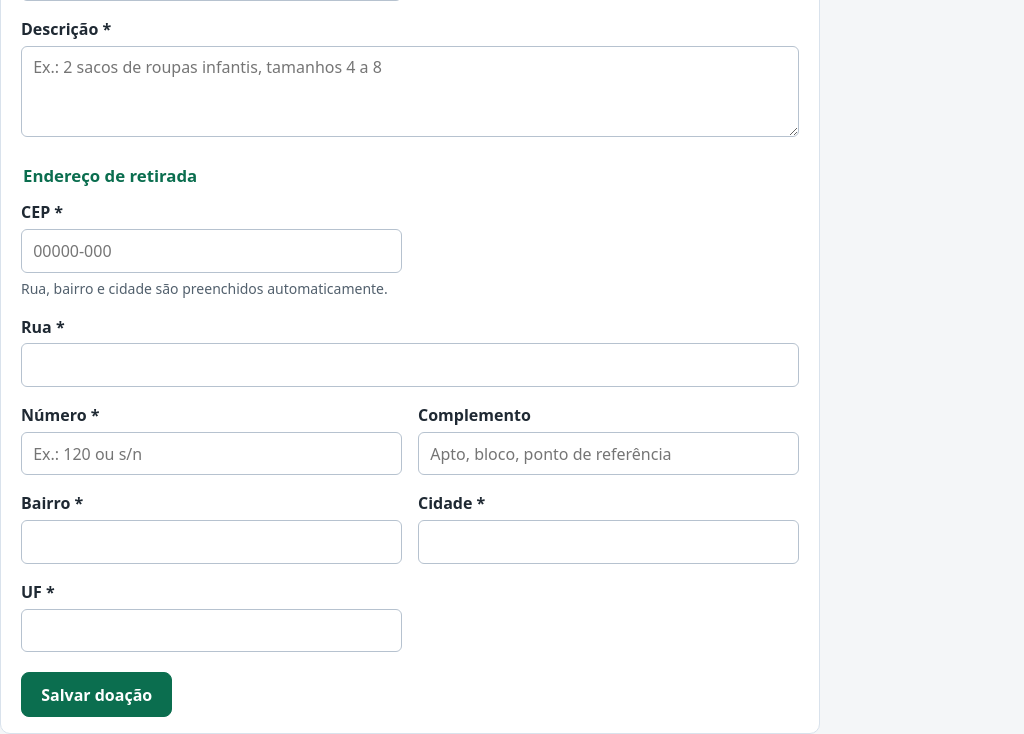
Test: enviar vazio mostra erros e não salva
This screenshot has width=1024, height=734.
(page scrolled)
Click the button "Salvar doação" at (97, 695), box [21,672,172,717]
(page scrolled)
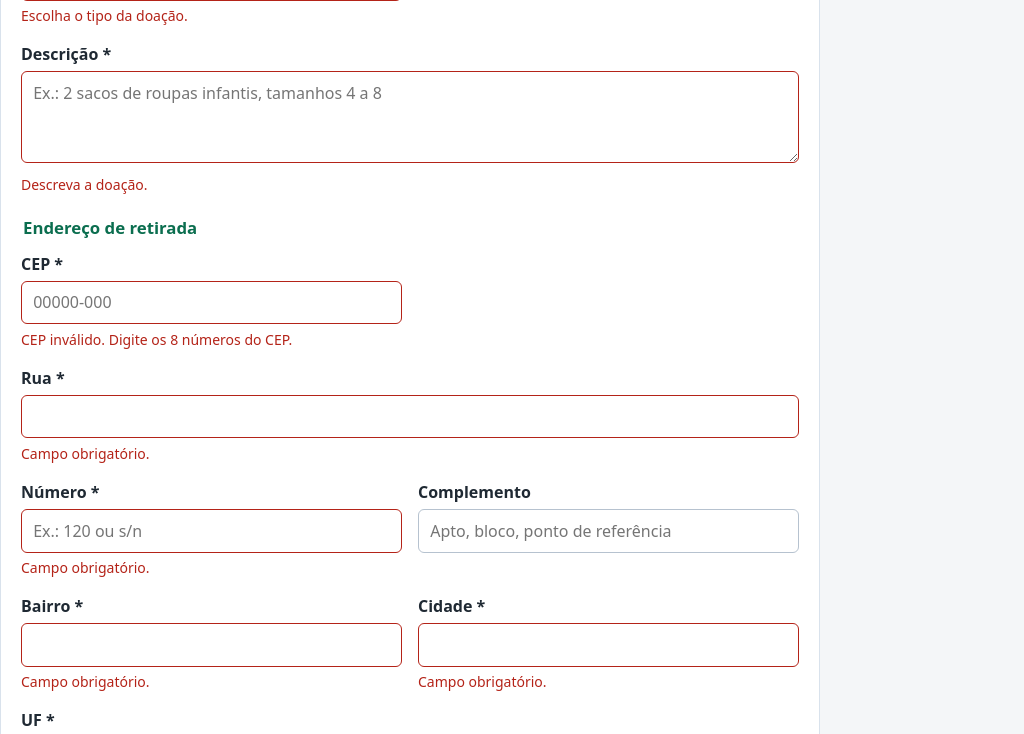
Expected: the text "Descreva a doação." is shown, [21,174,148,194]
